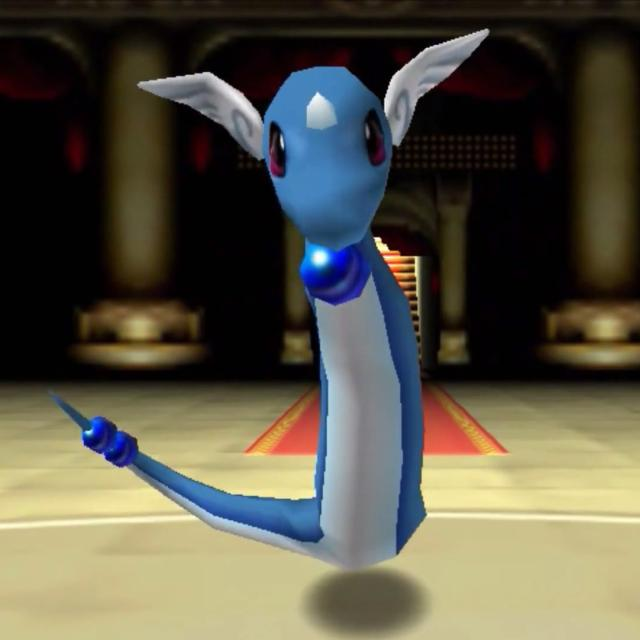Dragonair: (173, 49, 490, 558)
